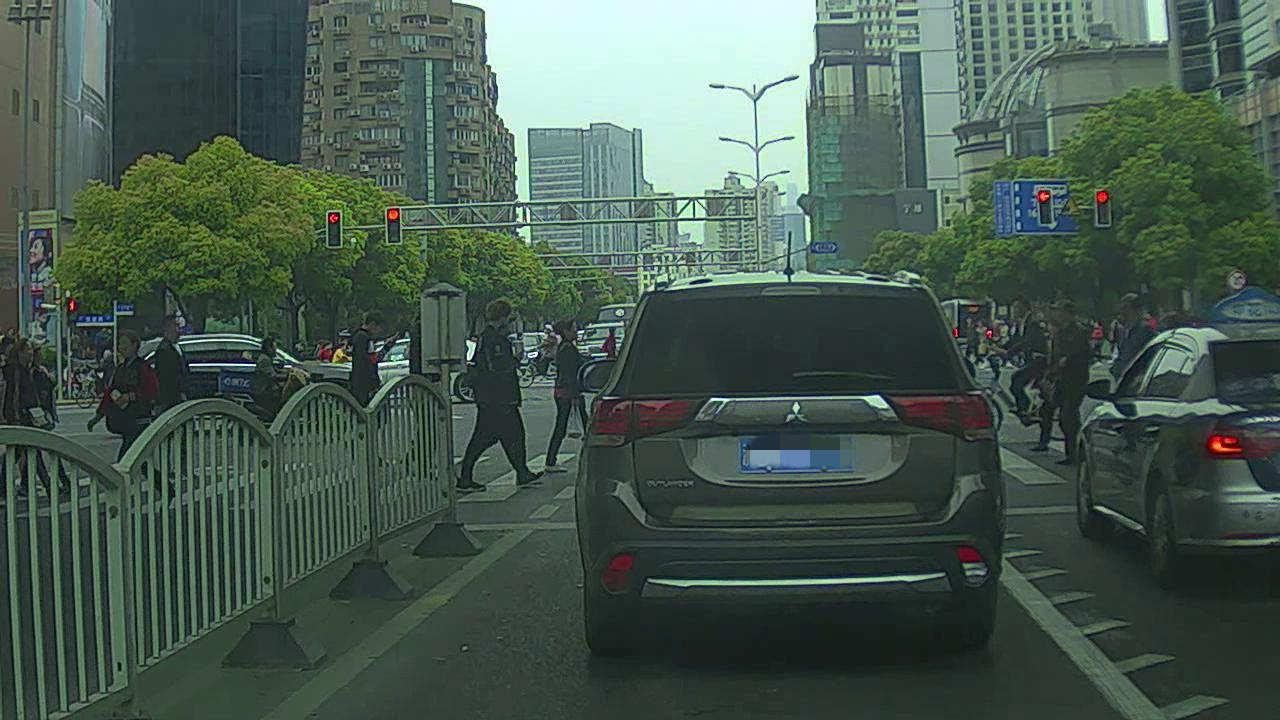traffic_light: (1092, 188, 1113, 228), (325, 210, 343, 249), (1036, 188, 1054, 224), (388, 208, 402, 242)
